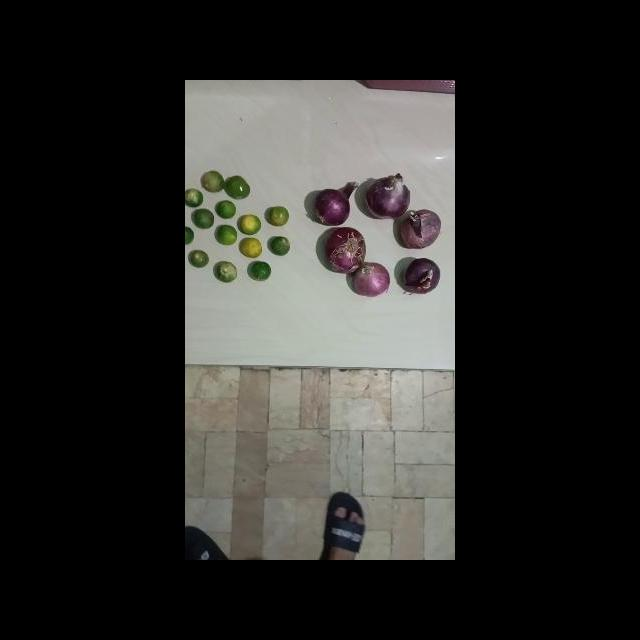onion: (324, 225, 367, 274), (315, 179, 359, 225), (368, 173, 411, 219), (398, 207, 442, 250), (353, 263, 390, 298), (406, 258, 441, 295)
